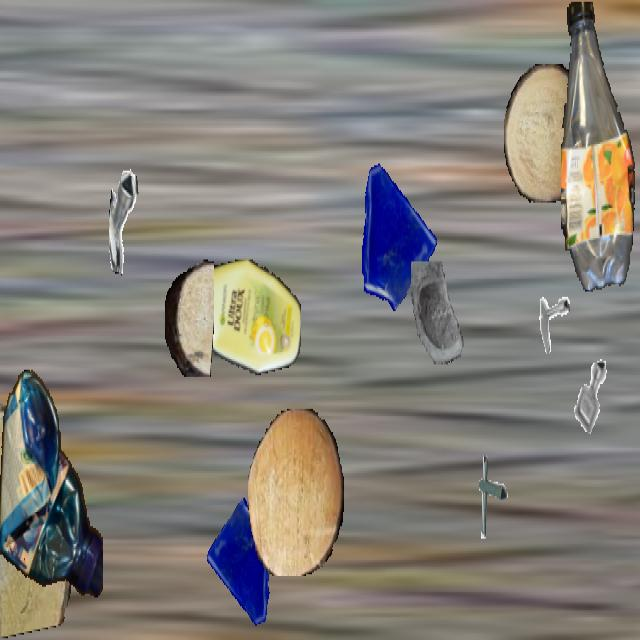glass: (349, 151, 439, 311), (205, 498, 283, 636), (405, 262, 473, 382)
metal: (109, 169, 171, 279), (563, 347, 619, 446), (464, 450, 516, 542), (528, 277, 570, 352)
plastic: (0, 366, 102, 608), (561, 2, 637, 290), (188, 259, 300, 377)
wood: (0, 404, 75, 638), (248, 409, 344, 576), (504, 64, 586, 203), (165, 258, 213, 375)
